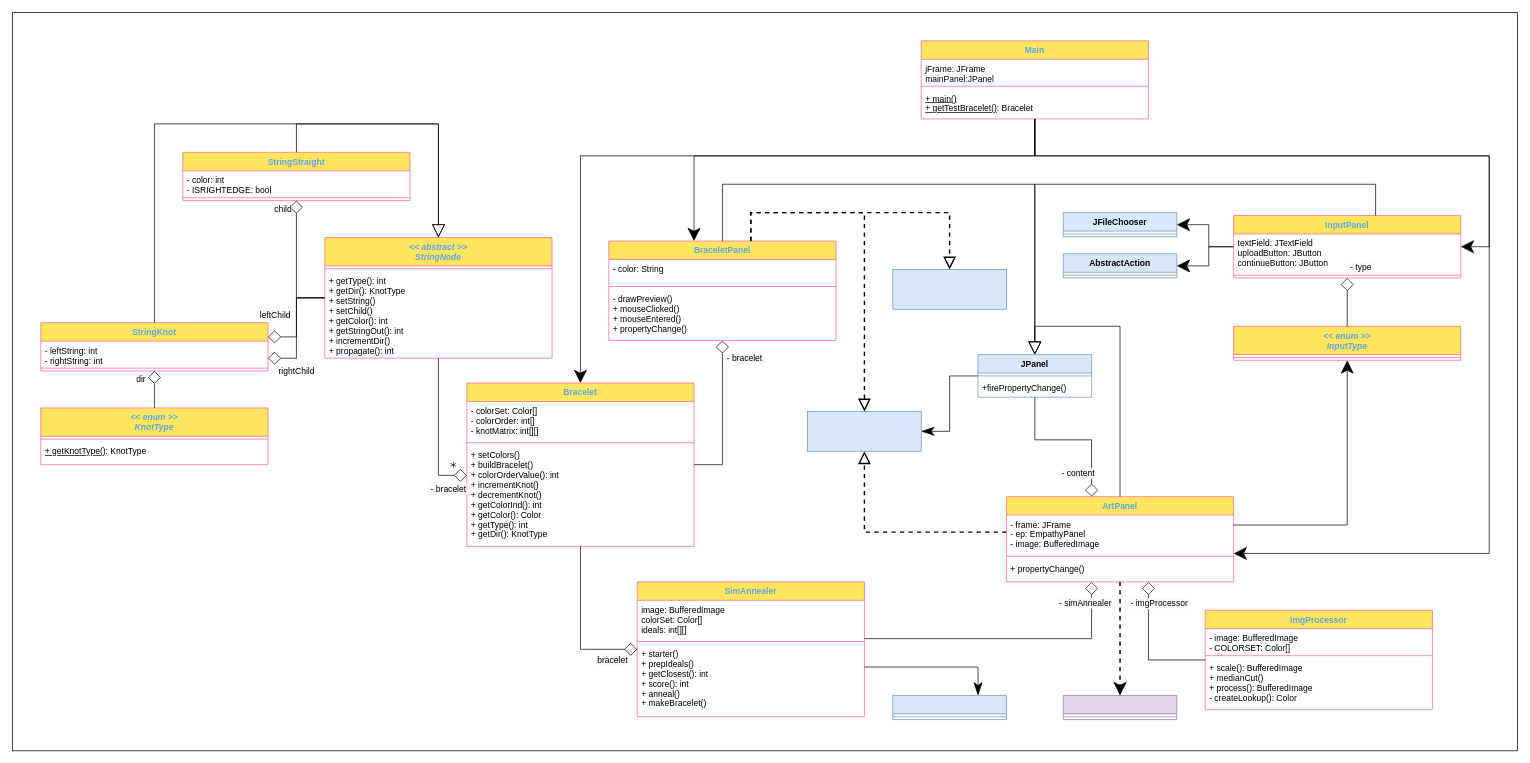
Image size: 1530x763. Some labels were removed from this diagram. Here are the shapes that lost their labels. From the top down, the centre of each, then its label:
pixel 949 289: «interface» MouseListener
pixel 864 431: «interface» PropertyChangeListener
pixel 949 707: Math
pixel 1120 707: EmpathyPanel
